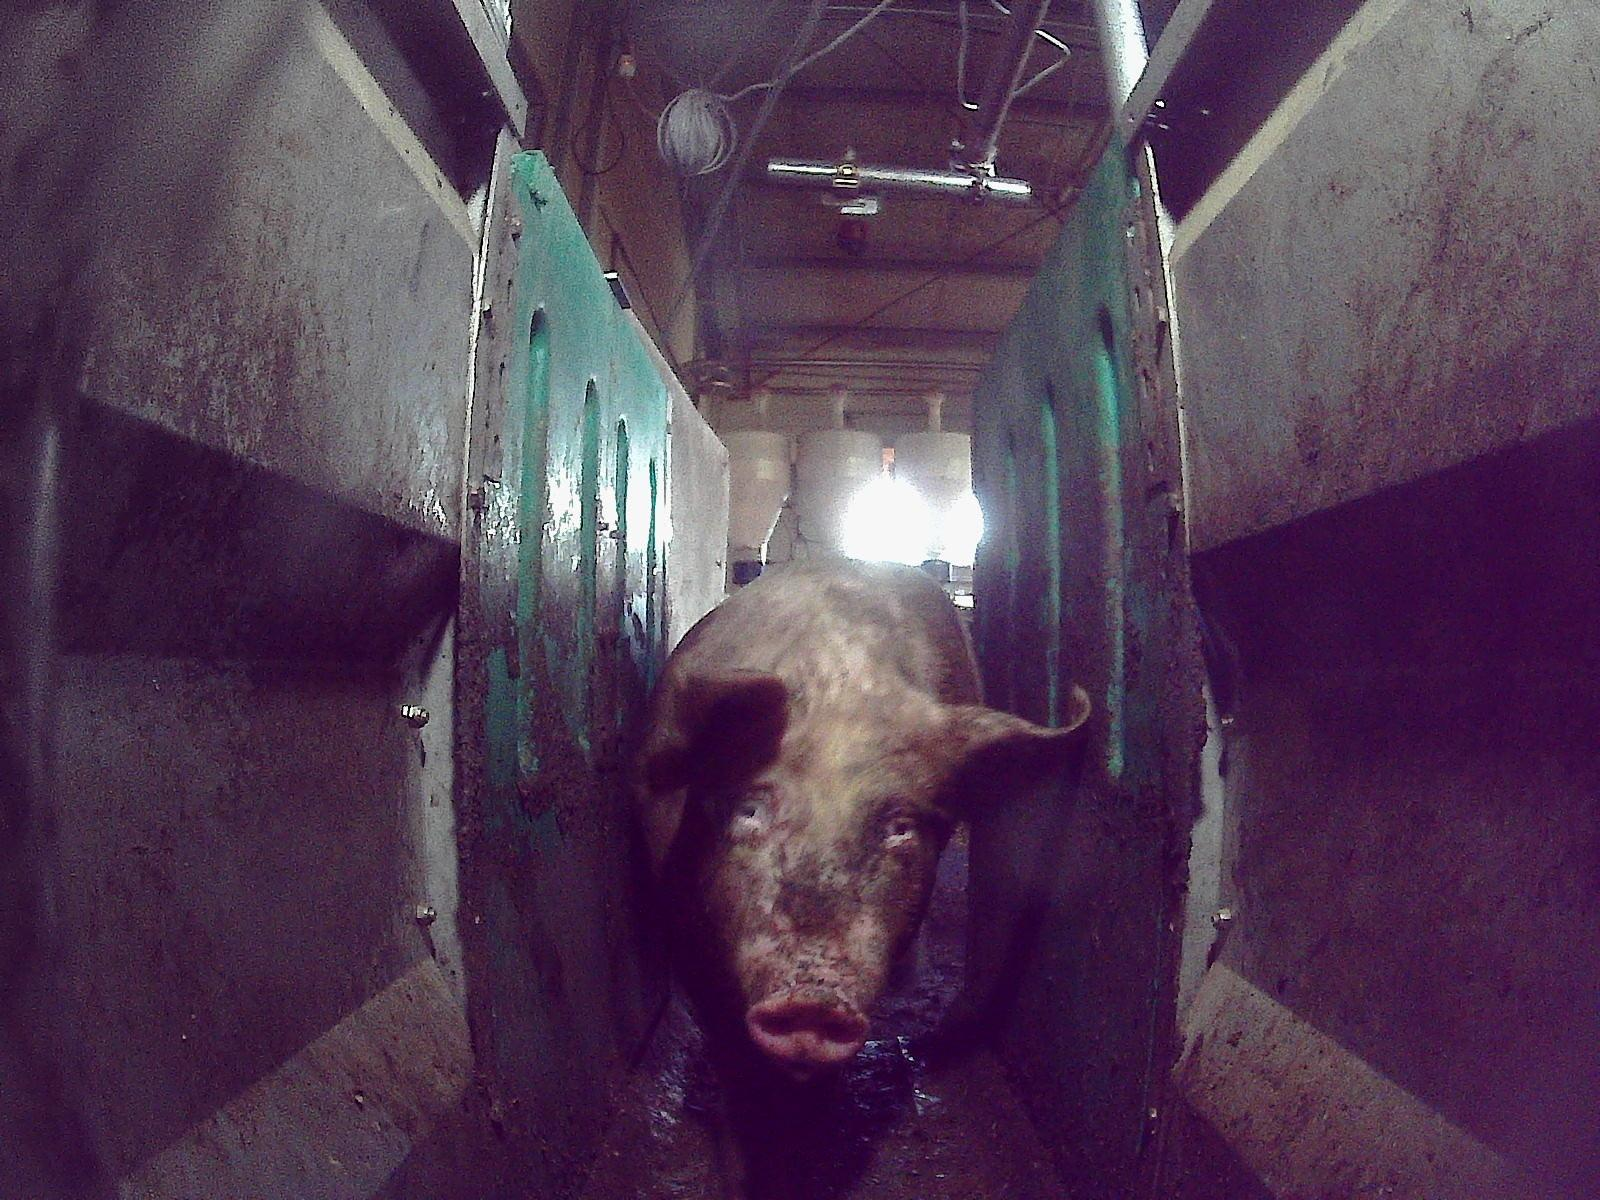Face: (701, 695, 947, 1083)
